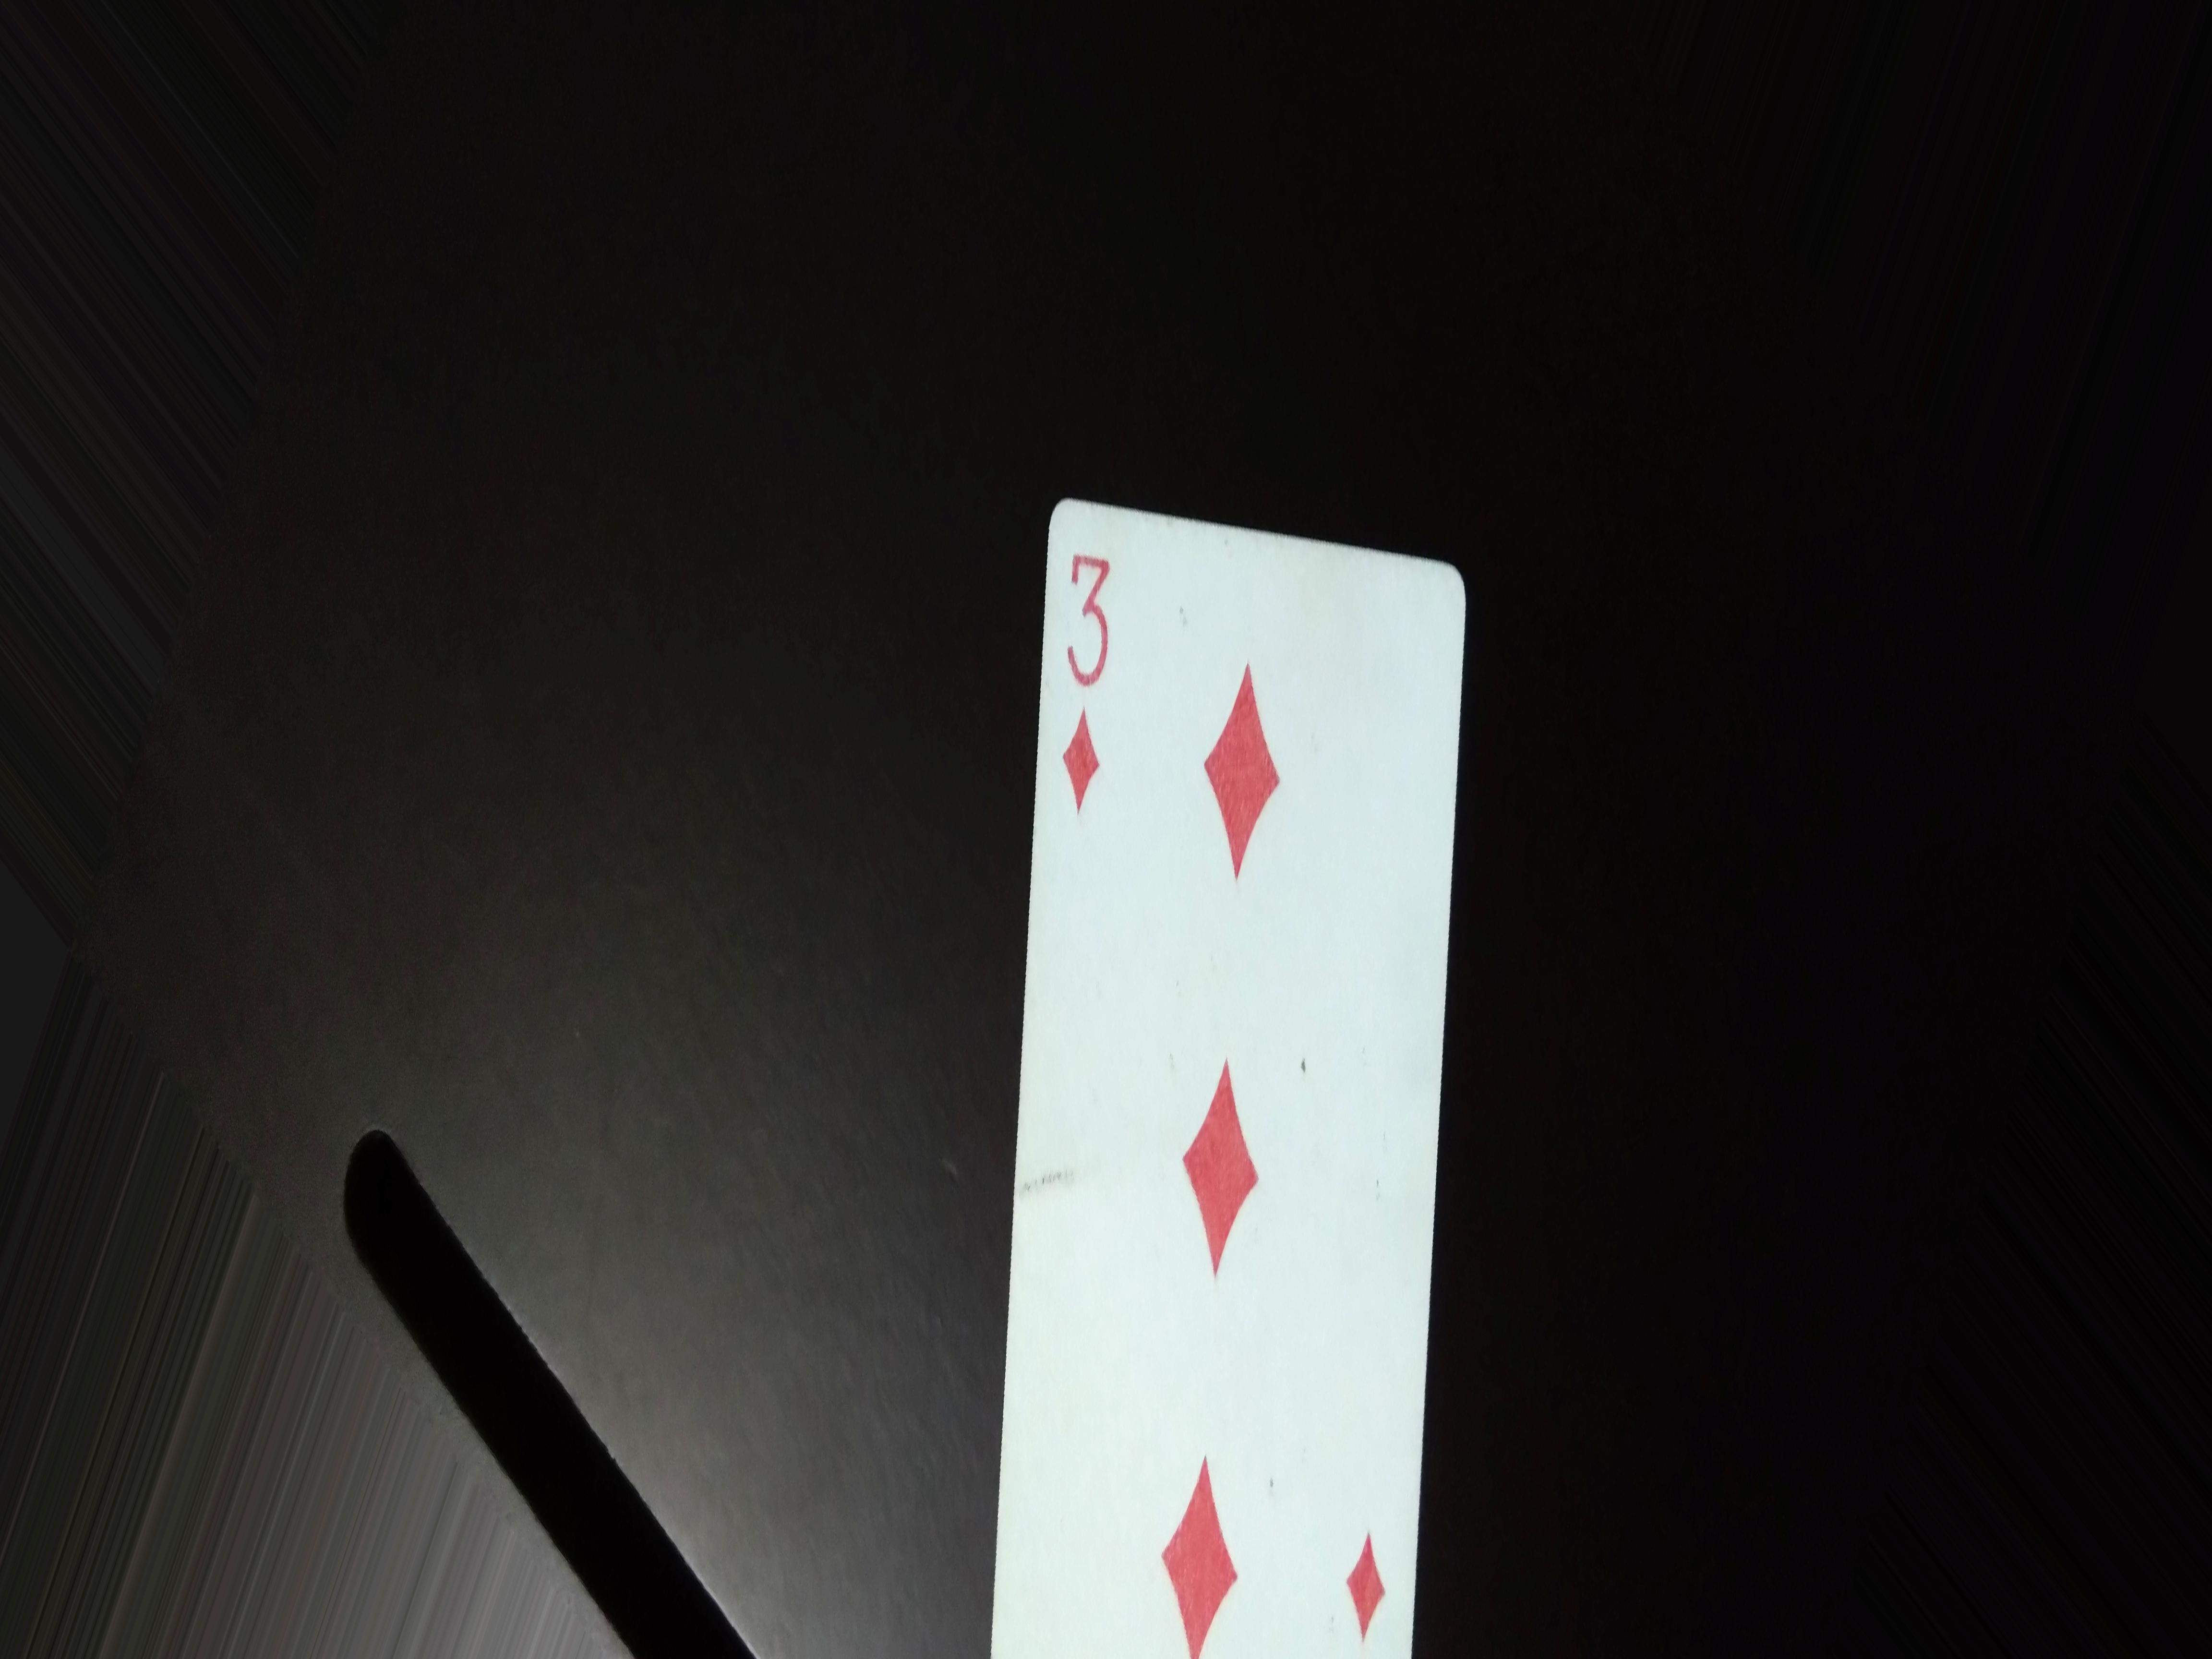3D: (1054, 511, 1153, 840)
